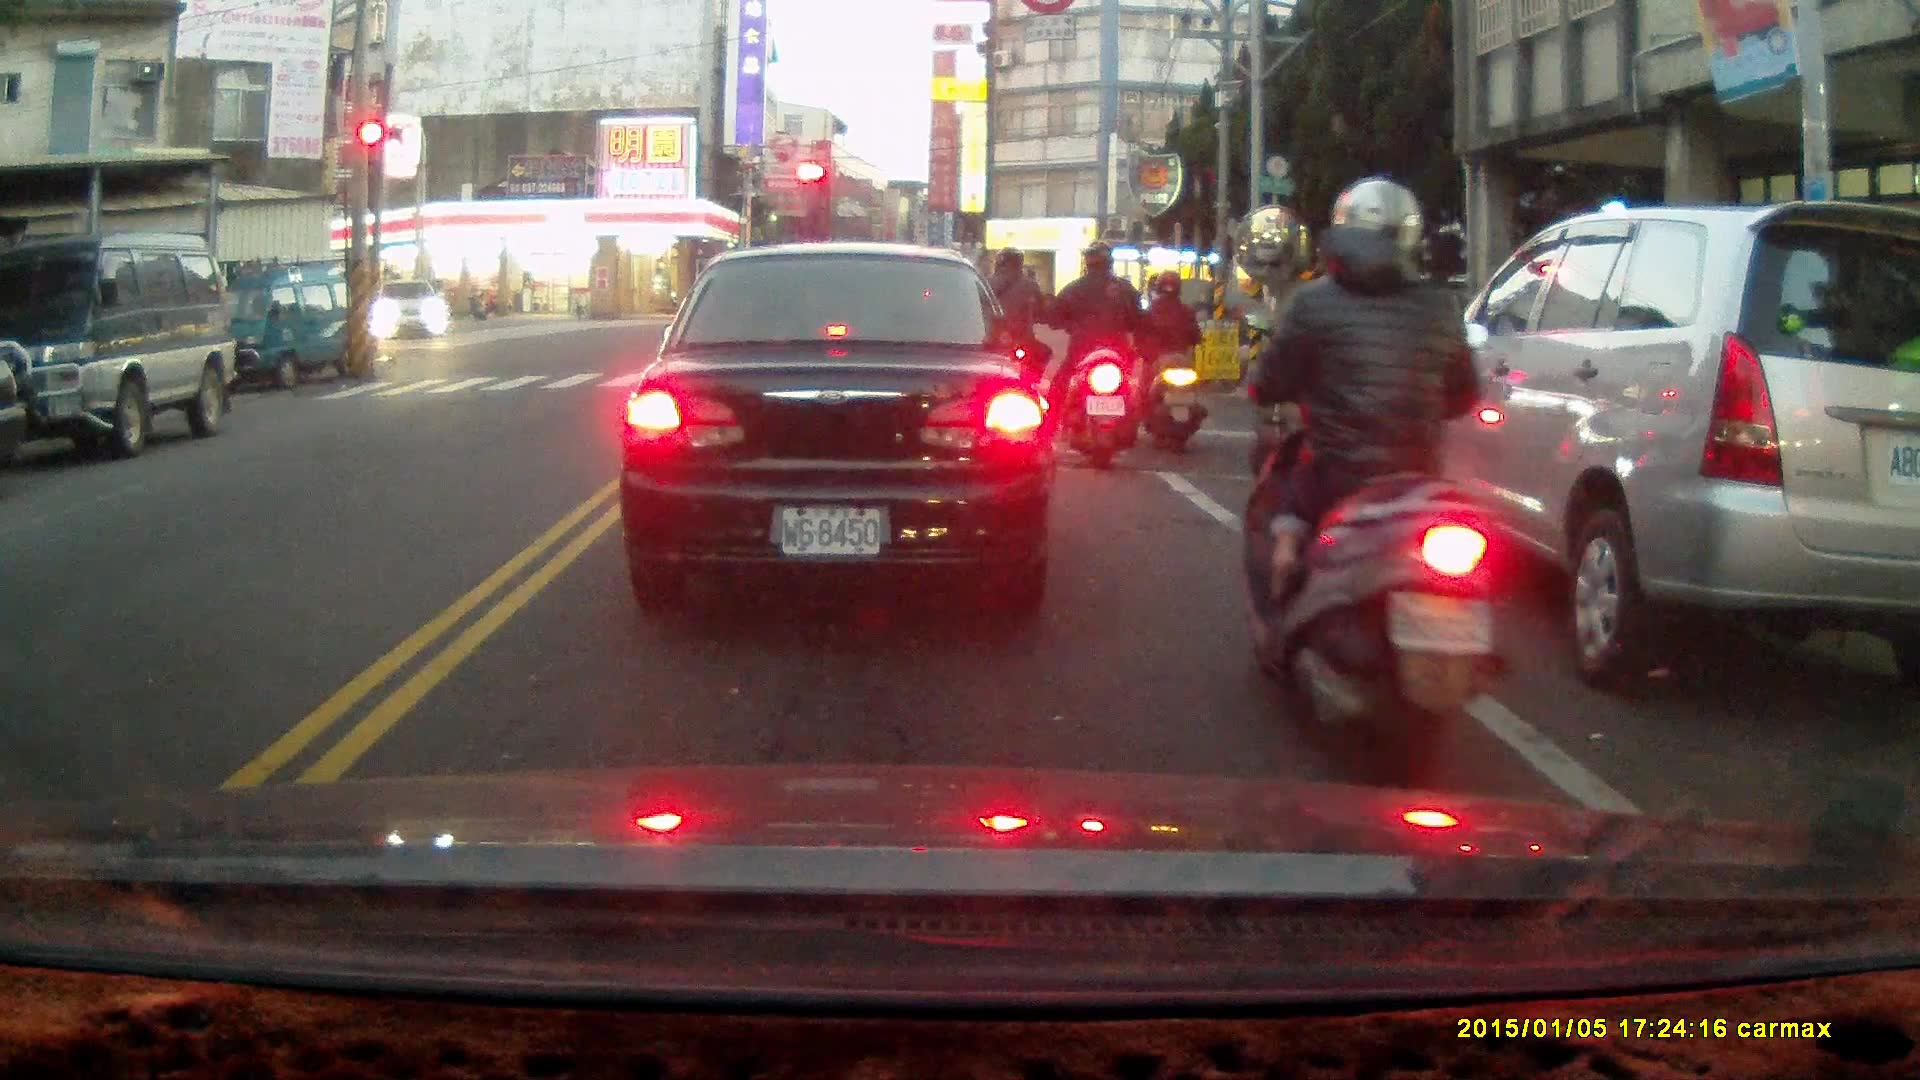rider: (1239, 175, 1502, 782), (1048, 242, 1141, 468), (963, 249, 1050, 431), (1135, 270, 1205, 451)
vehicle: (1376, 197, 1920, 689), (638, 246, 1051, 597), (3, 234, 240, 455), (188, 261, 381, 393), (372, 277, 451, 343)
